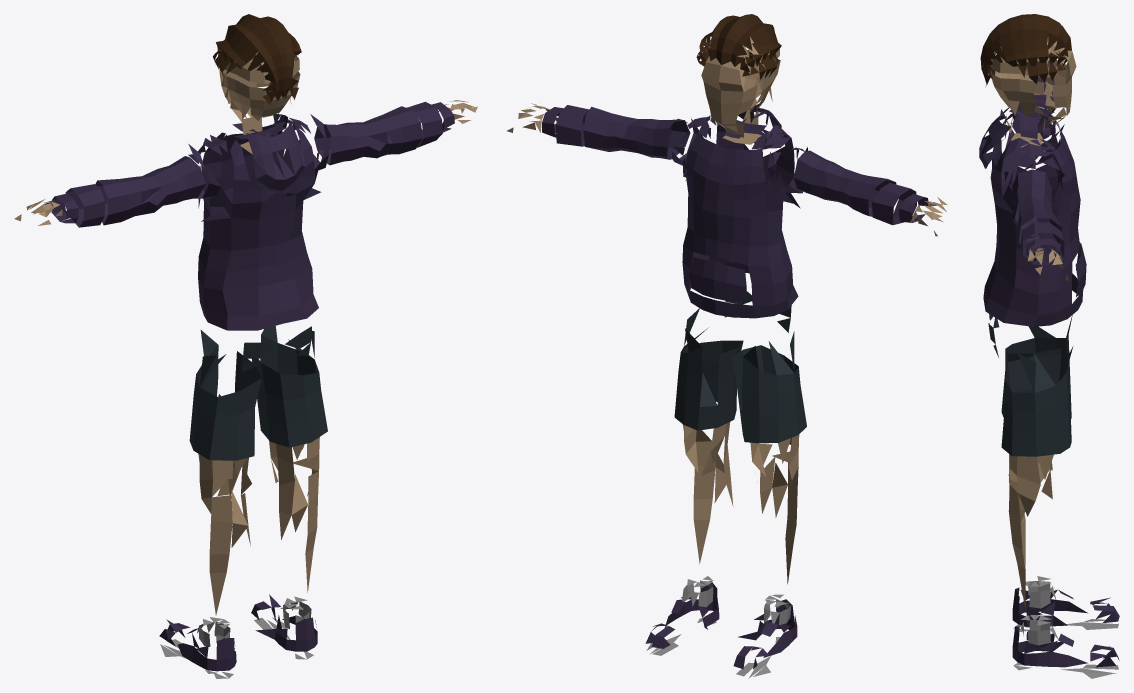
Rendered from person_11_sit.fbx.
3 views of the same model, side by side, from view 1: azimuth 30°, elevation 25°; view 2: azimuth 150°, elevation 25°; view 3: azimuth 270°, elevation 25° (orthographic). The views are drawn at different scales.
Visible parts, largest first — view 1: Casual_Feet; view 2: Casual_Feet; view 3: Casual_Feet.
Boxes of the visible parts, left/top/right/bottom form: Casual_Feet: left=14, top=14, right=477, bottom=678; Casual_Feet: left=507, top=14, right=947, bottom=678; Casual_Feet: left=979, top=14, right=1119, bottom=678.
Bounding box in the file's own units: 0.749 × 1.03 × 0.2066.
